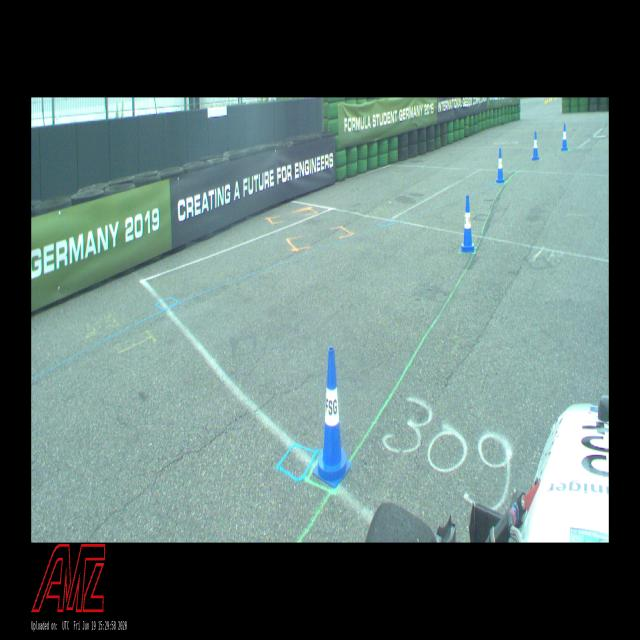blue_cone: (313, 346, 351, 487), (460, 196, 476, 253), (496, 148, 505, 184), (532, 132, 539, 160), (561, 124, 568, 150)
